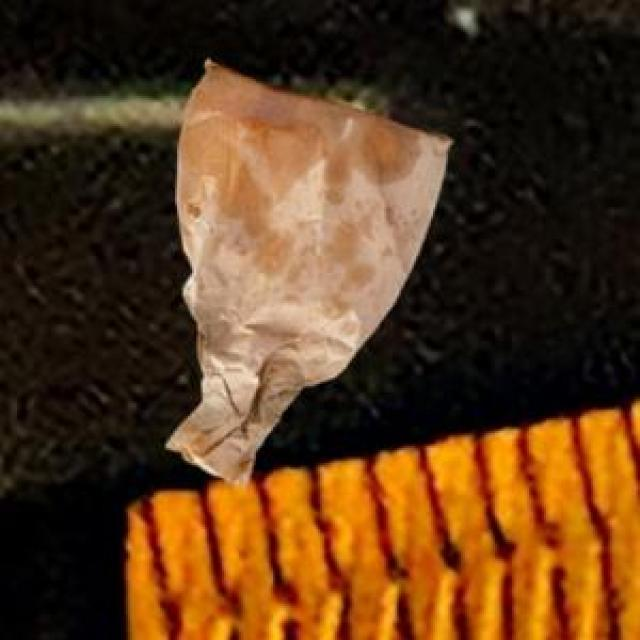paper: (162, 56, 448, 482)
